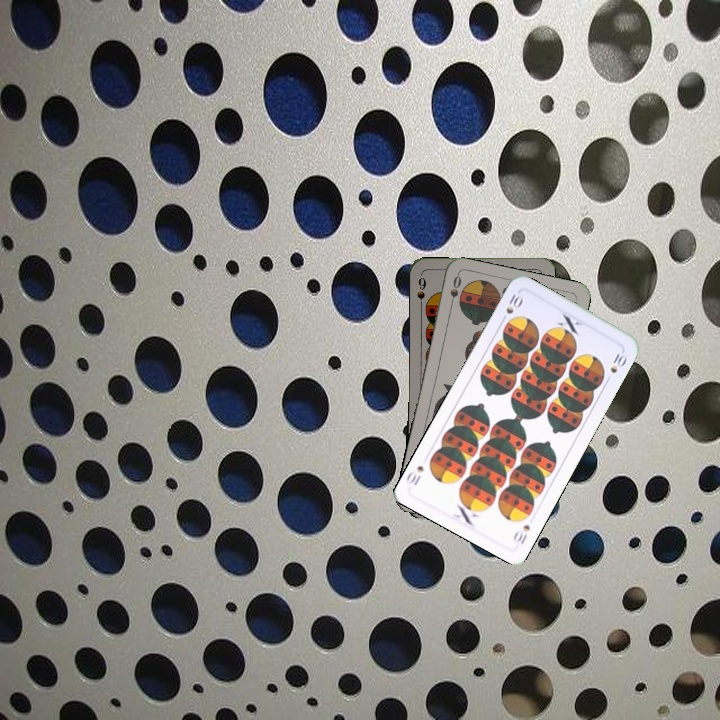S10: (497, 288, 526, 325), (509, 520, 533, 547)
S9: (413, 273, 428, 313)
SO: (446, 271, 464, 312)
